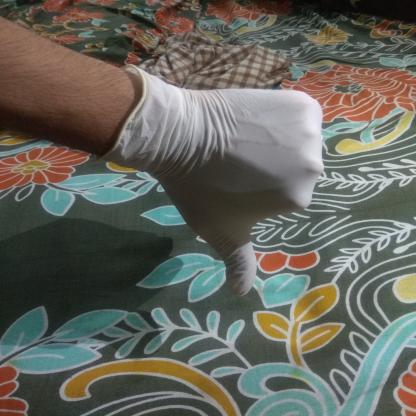gloved_hand: (93, 66, 328, 302)
